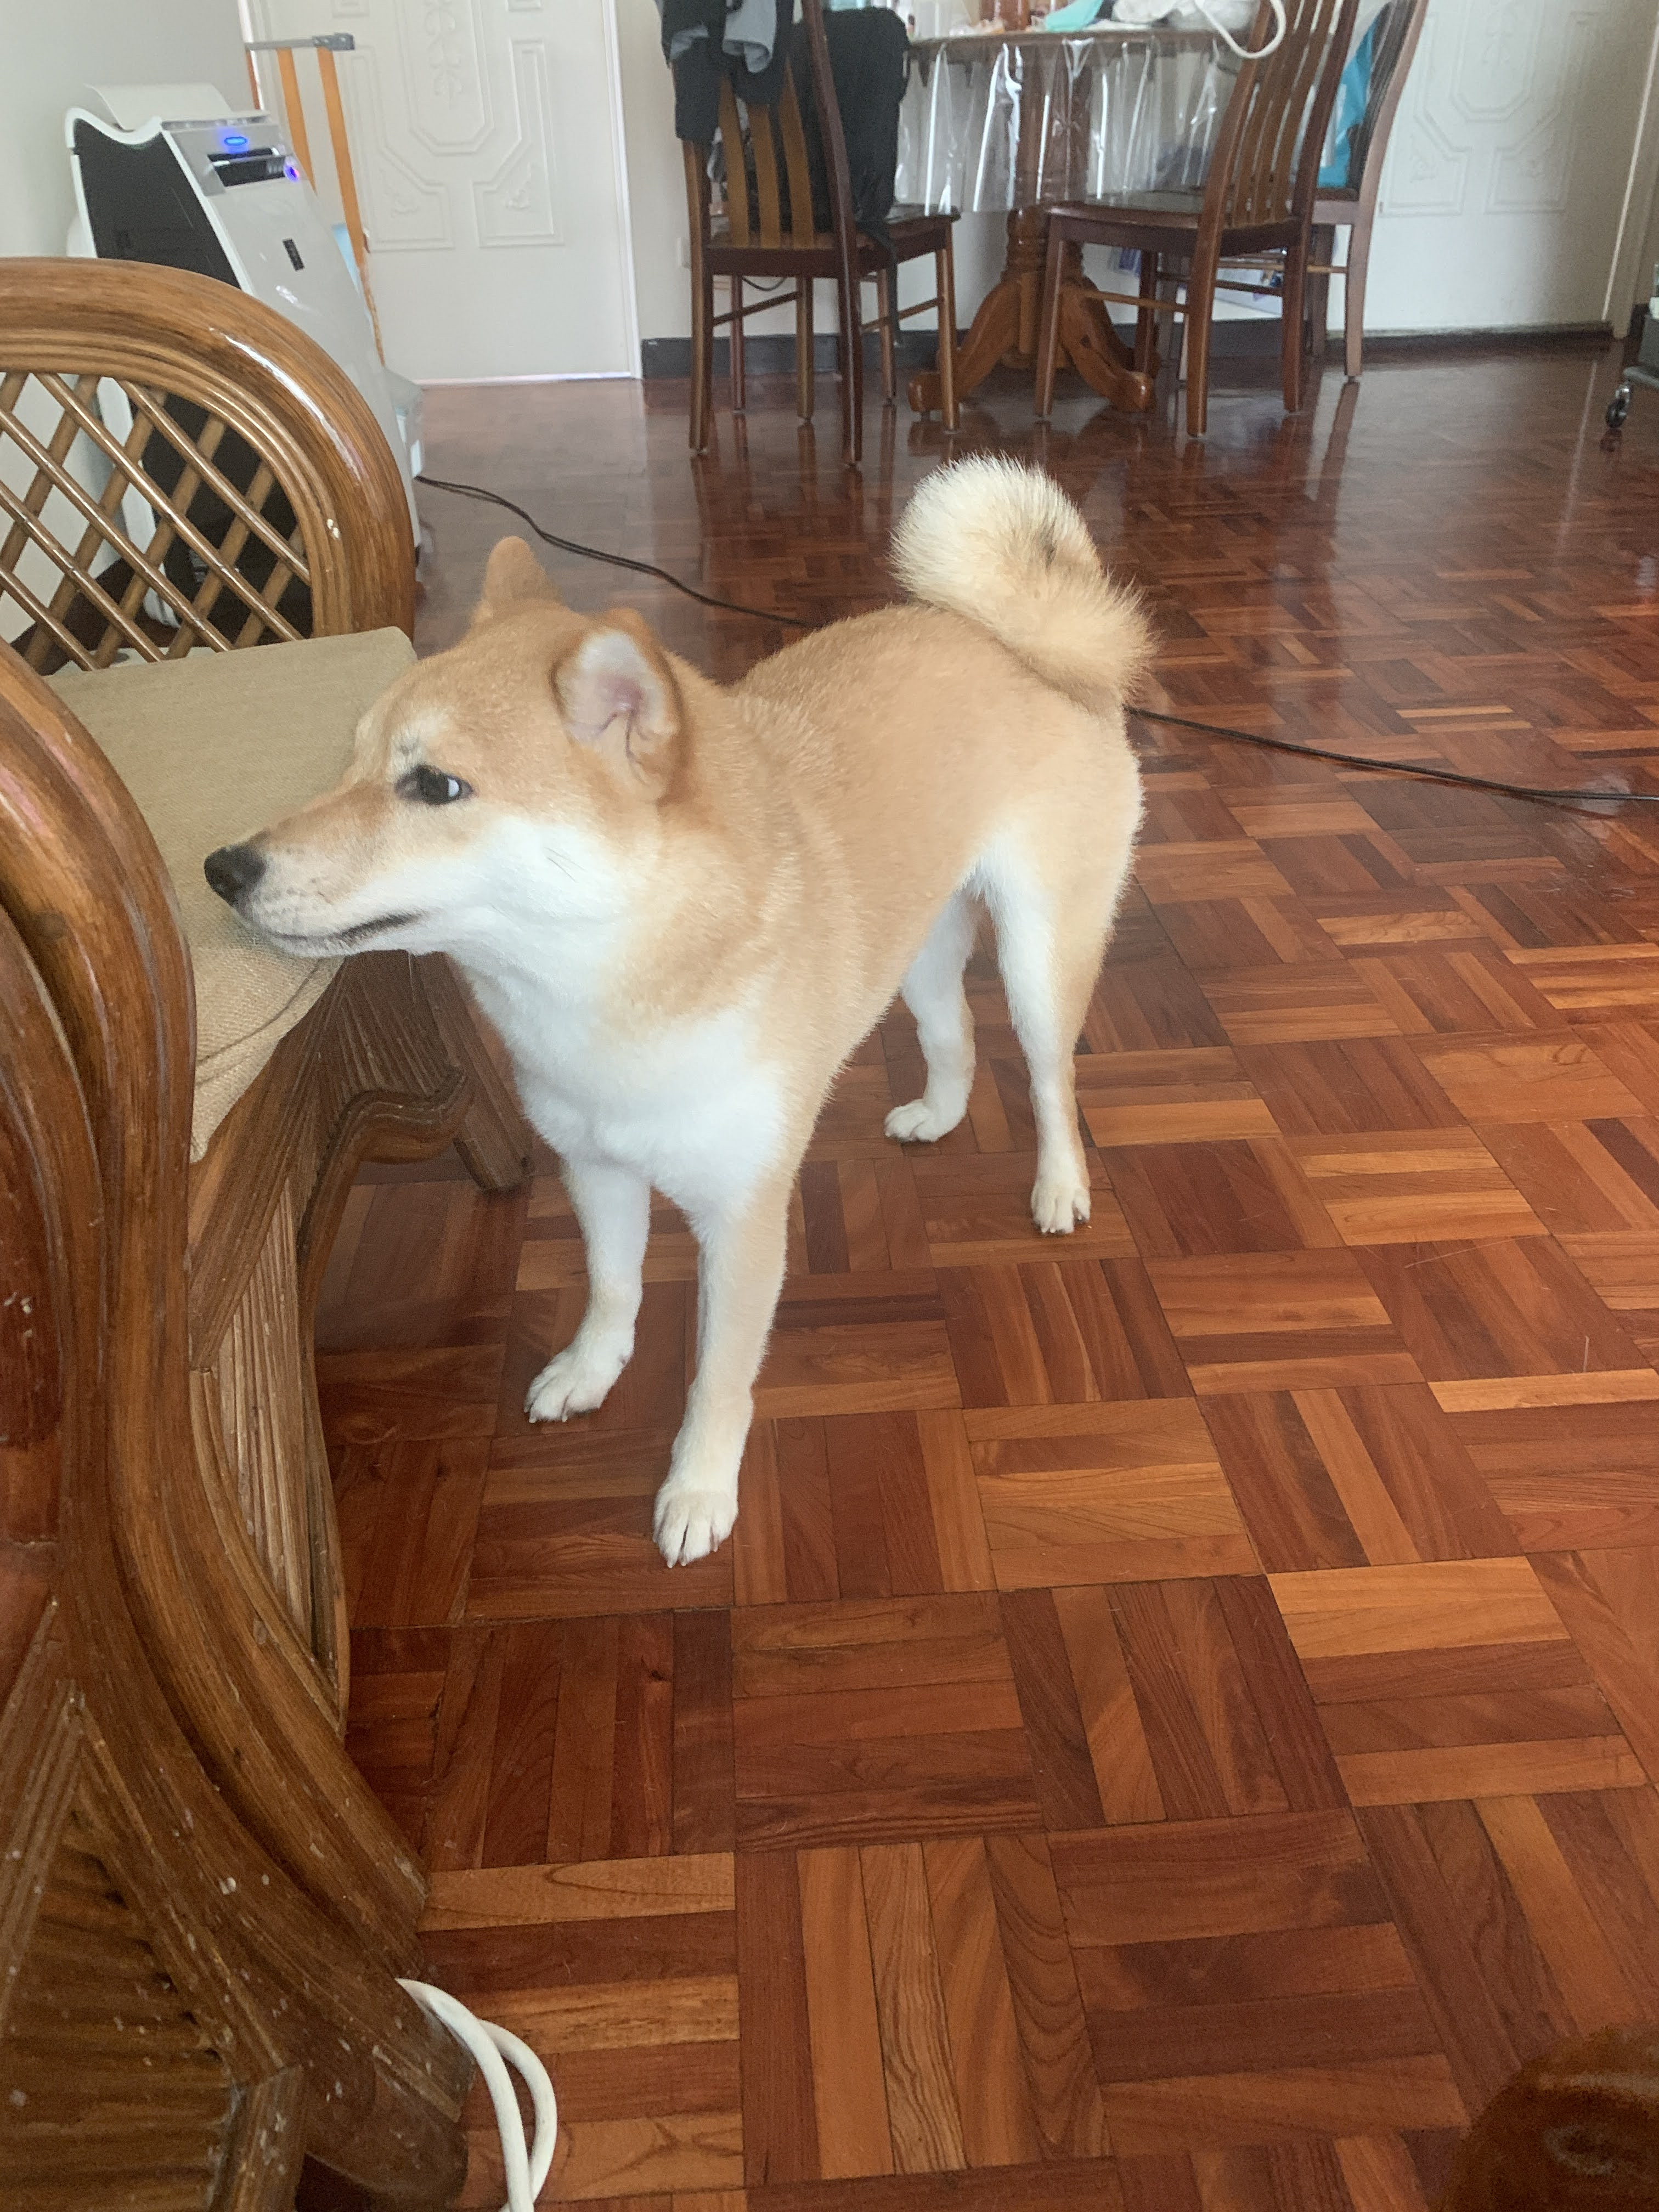Stand up: (192, 423, 1208, 1590)
